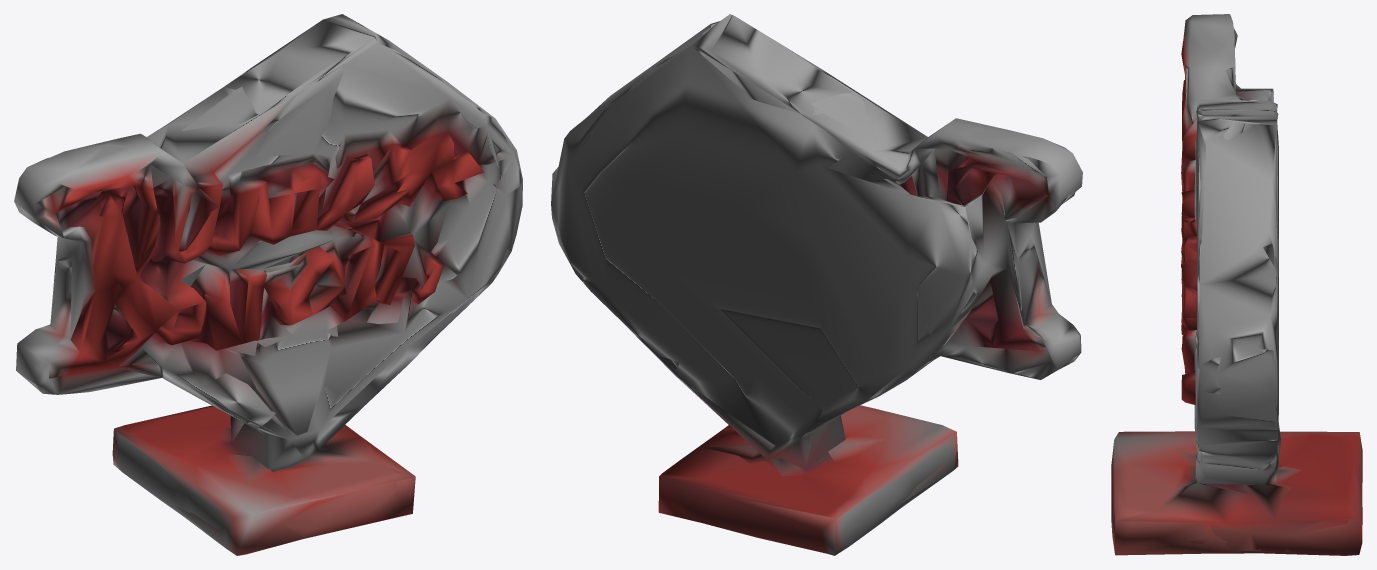
File: gen3d-diner-sign-lod0.glb
3 renders of one model, left to right at view 1: azimuth 30°, elevation 25°; view 2: azimuth 150°, elevation 25°; view 3: azimuth 270°, elevation 25°, orthographic.
Visible parts, largest first — view 1: part_0; view 2: part_0; view 3: part_0.
Part boxes in pixels (x1,y1,x2,y2): part_0: (14,14,522,555); part_0: (551,14,1082,555); part_0: (1111,14,1362,555).
Size of the model in its own units: 1.16 by 1 by 0.5143.
